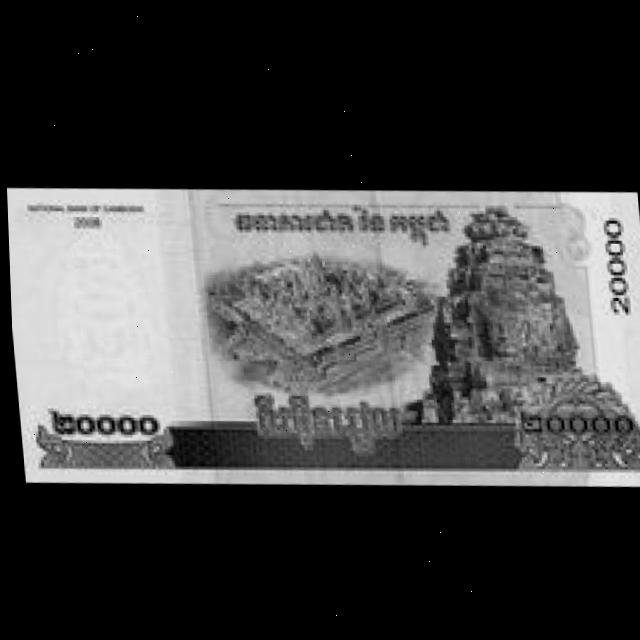banknote: (5, 156, 640, 508), (587, 196, 639, 318)
